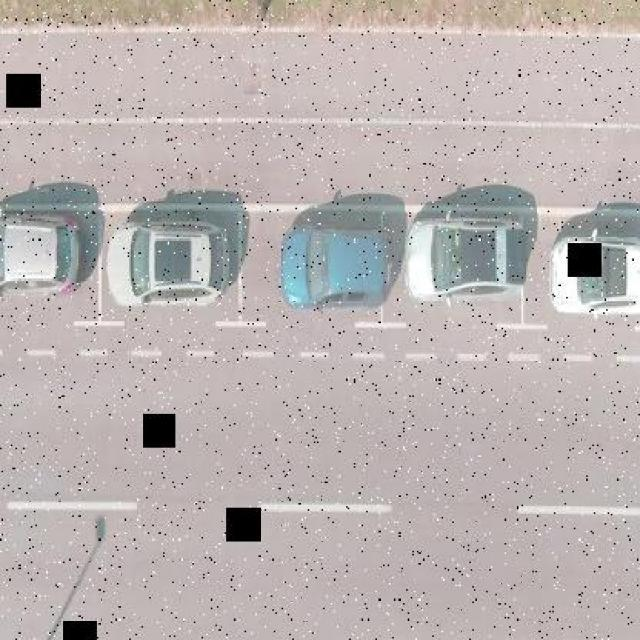car: (403, 214, 529, 300), (282, 220, 396, 309), (110, 232, 232, 302), (551, 234, 640, 318), (0, 214, 86, 300)
